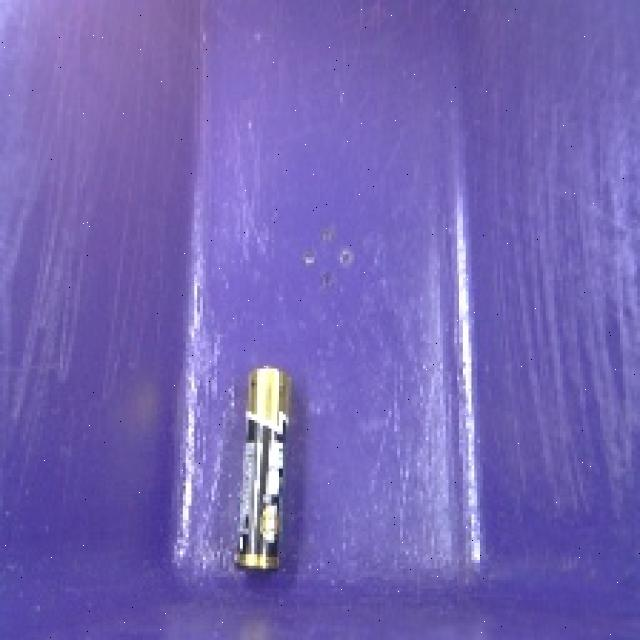battery: (227, 352, 300, 594)
